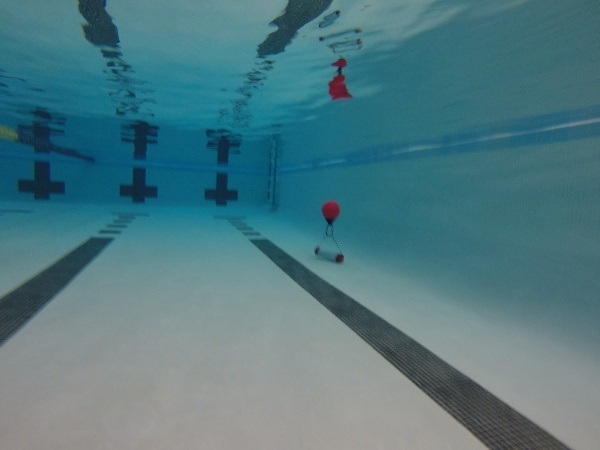buoy_red: (321, 198, 340, 225)
